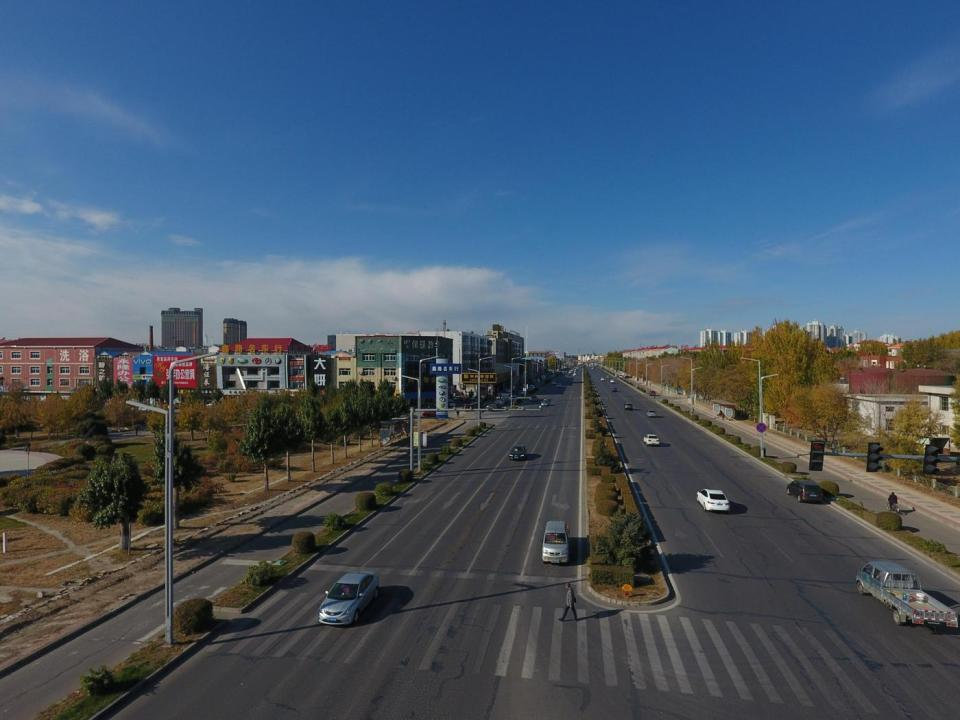car: (317, 570, 378, 626), (695, 490, 730, 512), (509, 444, 527, 460), (642, 435, 660, 445), (422, 408, 442, 417), (463, 404, 480, 412), (471, 402, 486, 410), (474, 402, 489, 408), (646, 410, 656, 418), (488, 404, 499, 411), (492, 402, 503, 408), (498, 392, 511, 397), (498, 389, 511, 394), (624, 403, 632, 411), (464, 397, 473, 404), (541, 399, 549, 406), (454, 396, 463, 402), (530, 395, 538, 401), (496, 400, 504, 406), (448, 400, 455, 406), (650, 390, 656, 396), (510, 396, 516, 402), (527, 386, 535, 390), (521, 390, 527, 395), (618, 374, 624, 378), (556, 384, 562, 388), (612, 388, 617, 392), (551, 380, 556, 384), (624, 376, 632, 378), (610, 380, 615, 383), (606, 375, 609, 379), (573, 372, 576, 376), (600, 377, 603, 380), (573, 371, 577, 373), (591, 367, 593, 369), (568, 374, 570, 376), (564, 372, 566, 374), (569, 372, 571, 374), (569, 370, 571, 372), (580, 368, 582, 370), (571, 370, 573, 371), (574, 369, 576, 370)
truck: (856, 562, 956, 634), (500, 397, 508, 402)
van: (542, 521, 570, 566), (786, 480, 823, 504)
